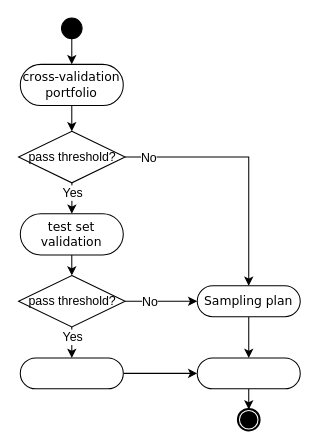
The diagram is 318 pixels wide and 448 high, and some of its shapes have lost their labels. Each missing label, with the centre of its shape:
"Optimization" goes at point 71,373.
"Prediction" goes at point 248,373.
